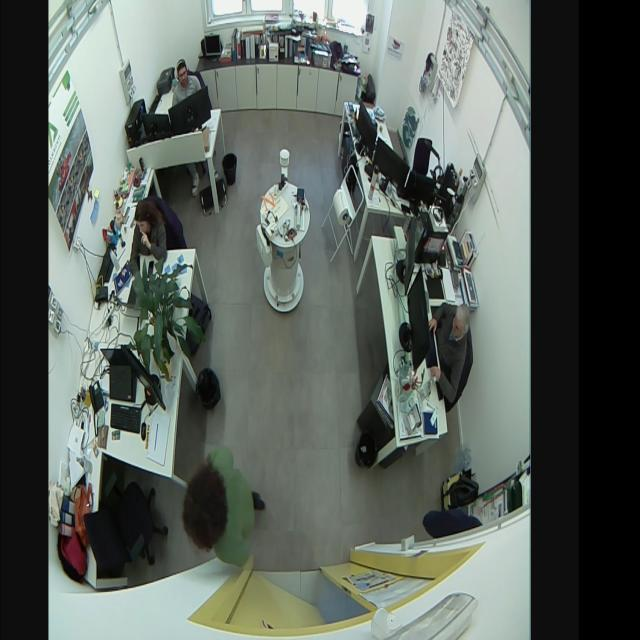Open: (234, 554, 366, 636)
Persona: (181, 442, 267, 572), (428, 300, 473, 404), (128, 195, 168, 280), (171, 55, 201, 106)
